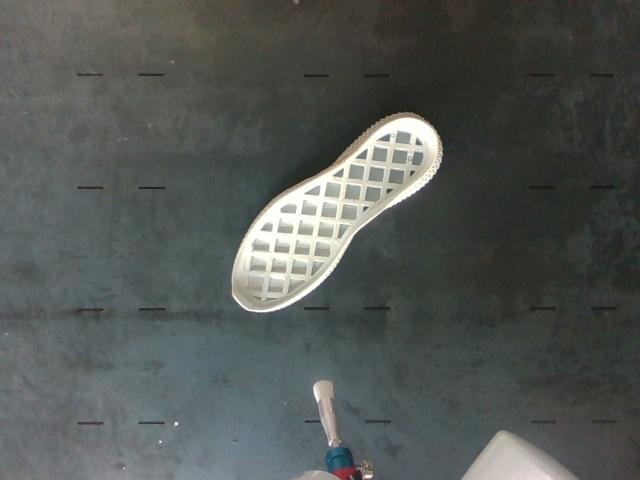shoes: (232, 118, 437, 310)
